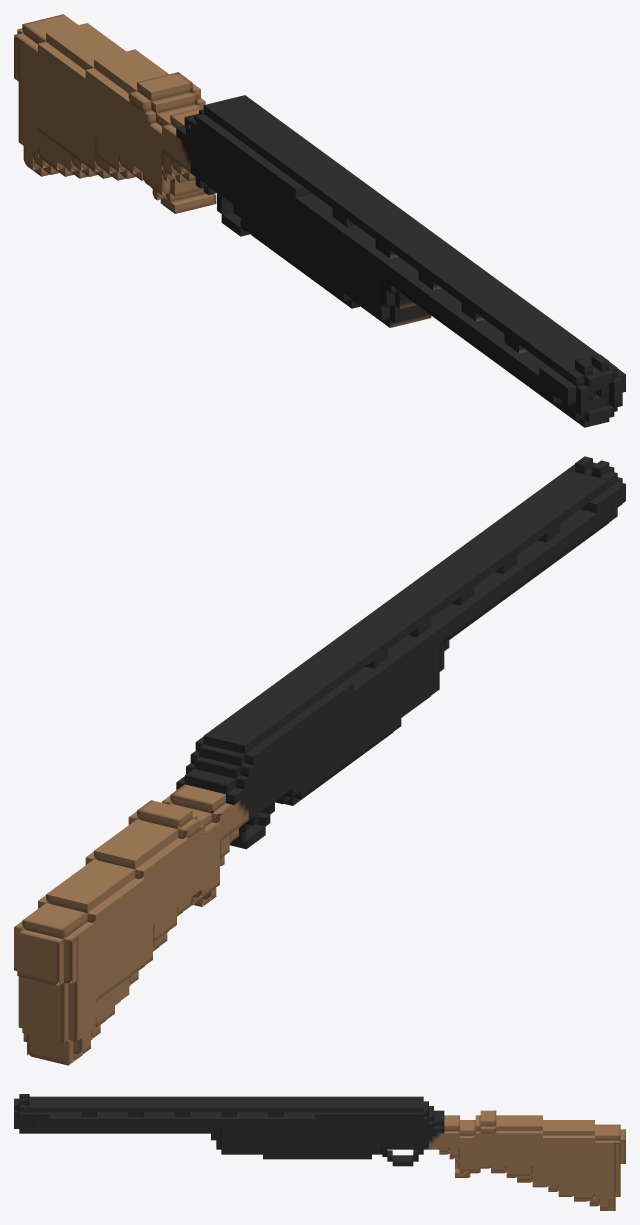
The model's file is OlimpyaBody.obj.
3 views of the same model, one above another, from view 1: azimuth 30°, elevation 25°; view 2: azimuth 150°, elevation 25°; view 3: azimuth 270°, elevation 25° (orthographic). The views are drawn at different scales.
Parts seen in each view (by area): view 1: Model; view 2: Model; view 3: Model.
Part boxes in pixels (left/top/right/bottom): Model: left=14, top=14, right=625, bottom=427; Model: left=14, top=456, right=625, bottom=1065; Model: left=14, top=1094, right=625, bottom=1210.
Size of the model in its own units: 1.9 by 6.24 by 32.
Materials: 1 (1 with a texture image).
